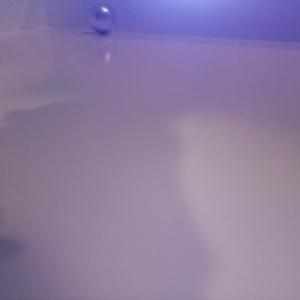alive_ball: (87, 3, 116, 35)
